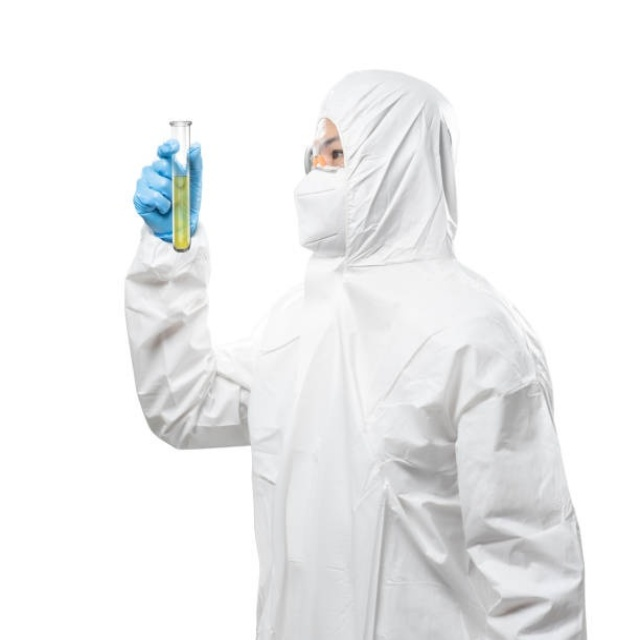Gafas: (304, 136, 342, 176)
Guantes: (134, 137, 201, 244)
Mascara: (293, 163, 347, 257)
